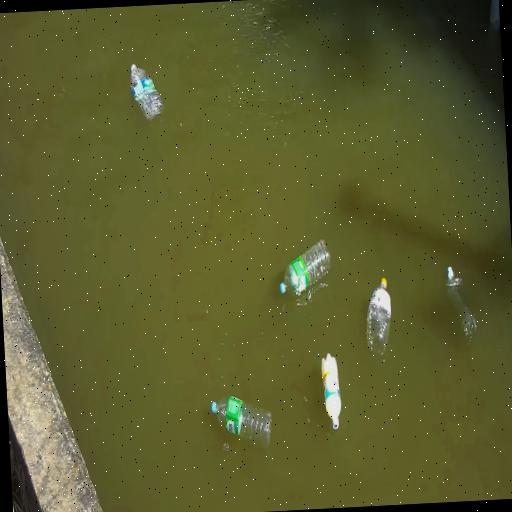plastic: (211, 396, 270, 447), (279, 241, 329, 295), (446, 267, 475, 342), (130, 64, 163, 121), (366, 278, 390, 354), (321, 353, 340, 429)
